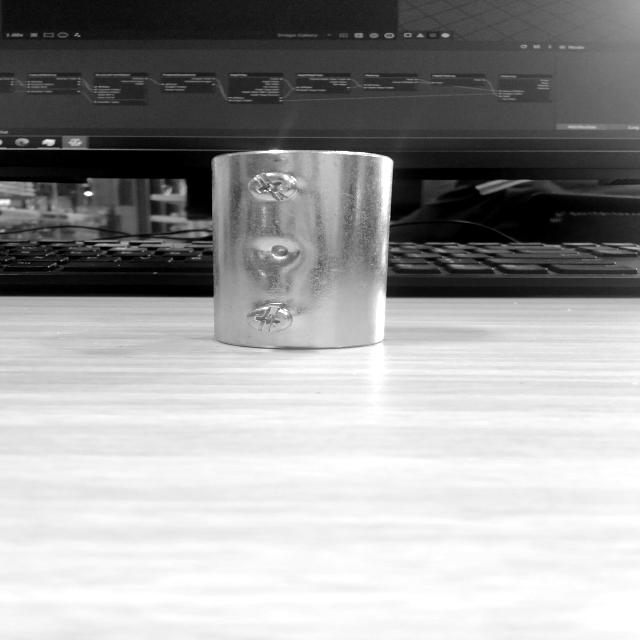Co_Nho: (212, 150, 394, 349)
